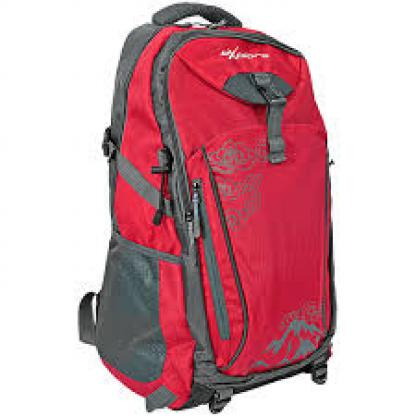morral: (67, 2, 355, 410)
